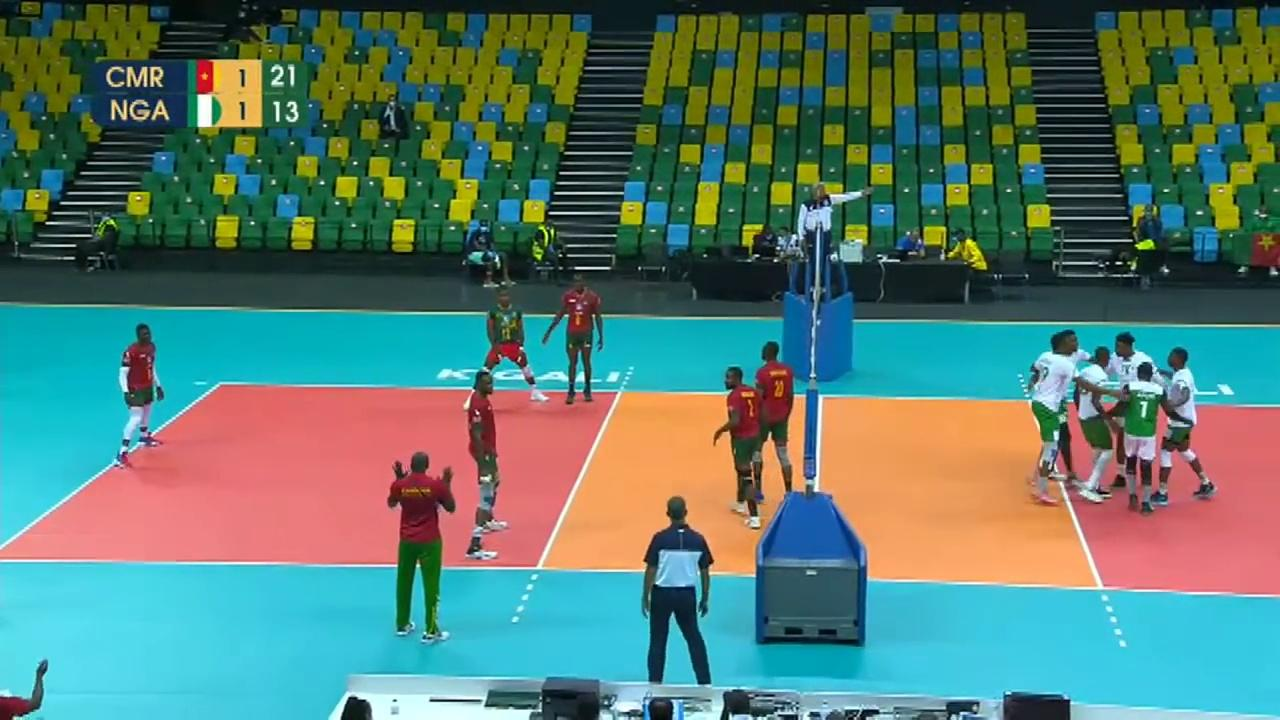player: (457, 368, 517, 563), (455, 289, 550, 405), (1033, 334, 1098, 502), (741, 338, 799, 496), (1158, 348, 1217, 501), (719, 361, 774, 525), (1107, 334, 1162, 492), (109, 326, 165, 469), (1040, 330, 1091, 486), (1118, 361, 1168, 516), (545, 276, 604, 401), (1074, 343, 1115, 508)
refree: (641, 500, 716, 684), (792, 174, 859, 296)
